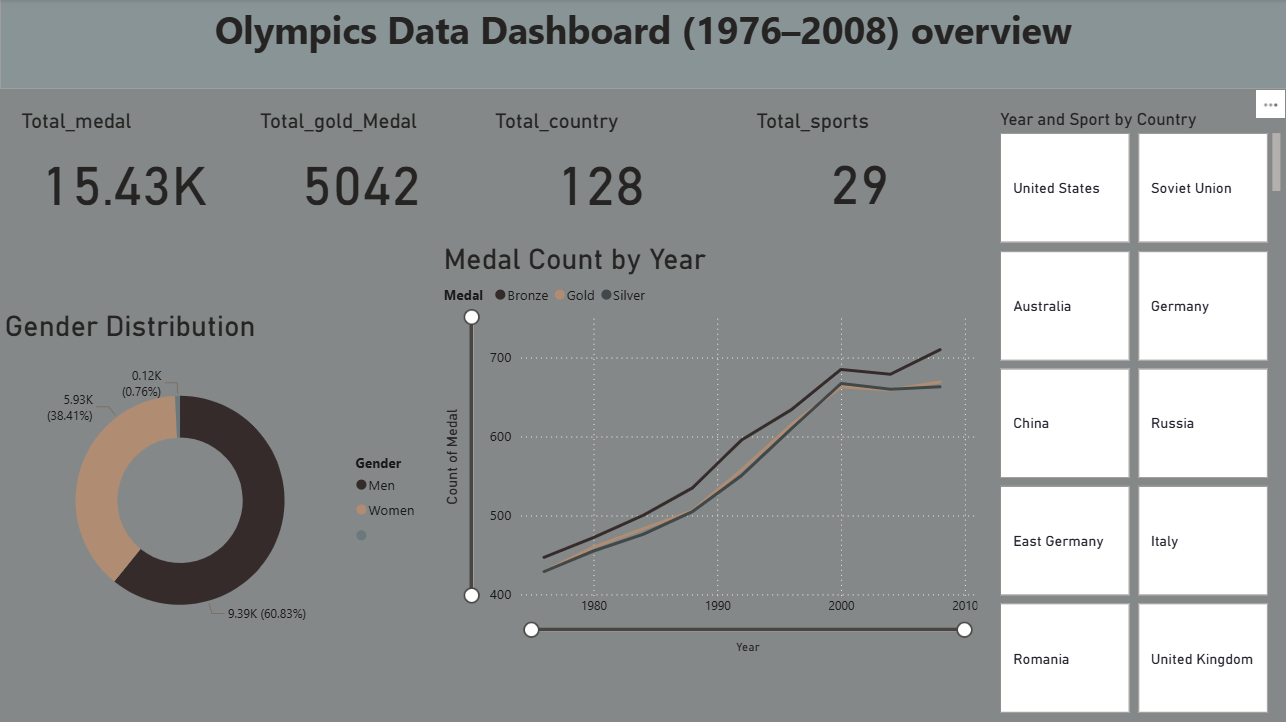

The dashboard page shown, as its layout file describes it:
{"tool":"powerbi","page":{"name":"Page 1","canvas":[1280,720],"ordinal":0},"visuals":[{"type":"textbox","box":[0,0,1280,89.6],"z":0},{"type":"card","title":"Total_medal","fields":{"Values":["CountNonNull(summer_olympic.Medal )"]},"box":[15.9,109.6,215,115.4],"z":1000},{"type":"card","title":"Total_gold_Medal ","fields":{"Values":["summer_olympic.Gold Medals"]},"box":[253.9,109.6,210.6,115.4],"z":2000},{"type":"card","title":"Total_country ","fields":{"Values":["Count(summer_olympic.Country)"]},"box":[487.6,109.5,220.2,115.7],"z":3000},{"type":"card","title":"Total_sports","fields":{"Values":["Count(summer_olympic.Sport)"]},"box":[747.4,109.6,216.4,114],"z":4000},{"type":"advancedSlicerVisual","title":" Year and  Sport by Country","fields":{"Values":["summer_olympic.Country"]},"box":[990.2,109.5,289.8,610.8],"z":5000},{"type":"donutChart","title":"Gender Distribution","fields":{"Category":["summer_olympic.Gender"],"Y":["CountNonNull(summer_olympic.Medal )"]},"box":[0,308.5,426.7,348.3],"z":6000},{"type":"lineChart","title":"Medal Count by Year","fields":{"Category":["summer_olympic.Year"],"Y":["CountNonNull(summer_olympic.Medal )"],"Series":["summer_olympic.Medal "]},"box":[436.6,241.3,541.1,415.5],"z":7000}]}

Visuals, with their boxes in screenshot pixels (x1, y1, x2, y2), scaled from the page's 1280x720 canvas onto the 1286x722 screenshot:
textbox: BBox(0, 0, 1285, 90)
"Total_medal" card: BBox(16, 110, 232, 226)
"Total_gold_Medal " card: BBox(255, 110, 467, 226)
"Total_country " card: BBox(490, 110, 711, 226)
"Total_sports" card: BBox(751, 110, 968, 224)
" Year and  Sport by Country" advancedSlicerVisual: BBox(995, 110, 1285, 721)
"Gender Distribution" donutChart: BBox(0, 309, 429, 659)
"Medal Count by Year" lineChart: BBox(439, 242, 982, 659)
